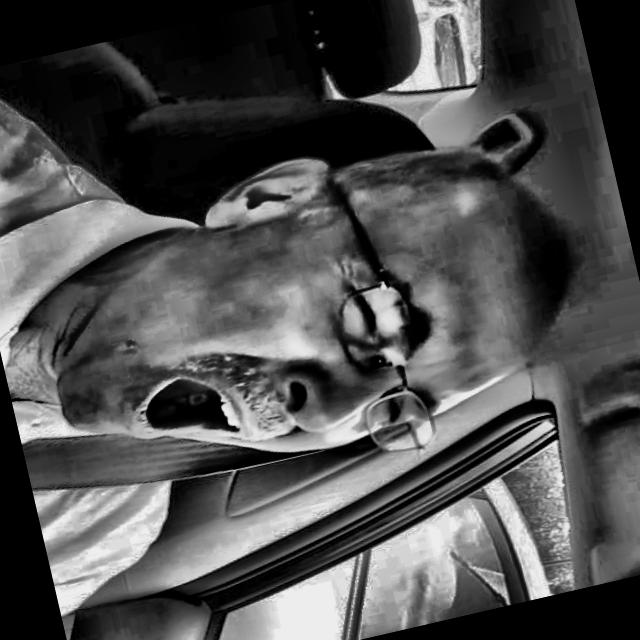closed_eyes: (315, 273, 391, 355), (370, 388, 424, 447)
open_mouth: (96, 343, 267, 472)
